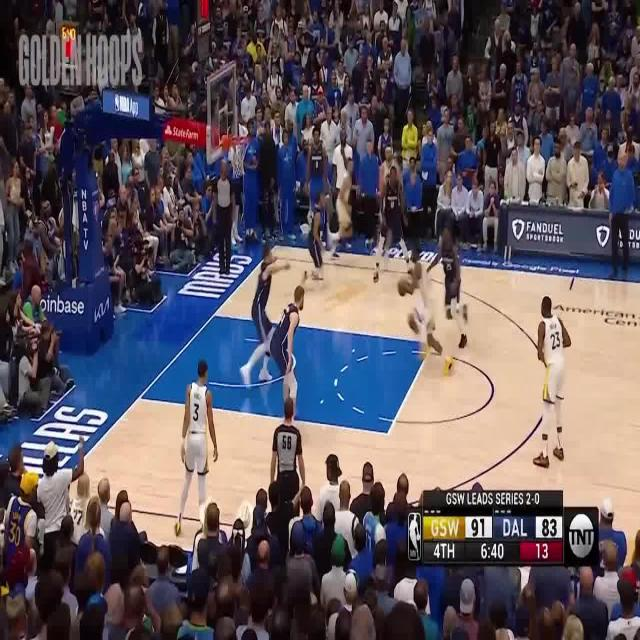ball-handler: (393, 242, 457, 380)
